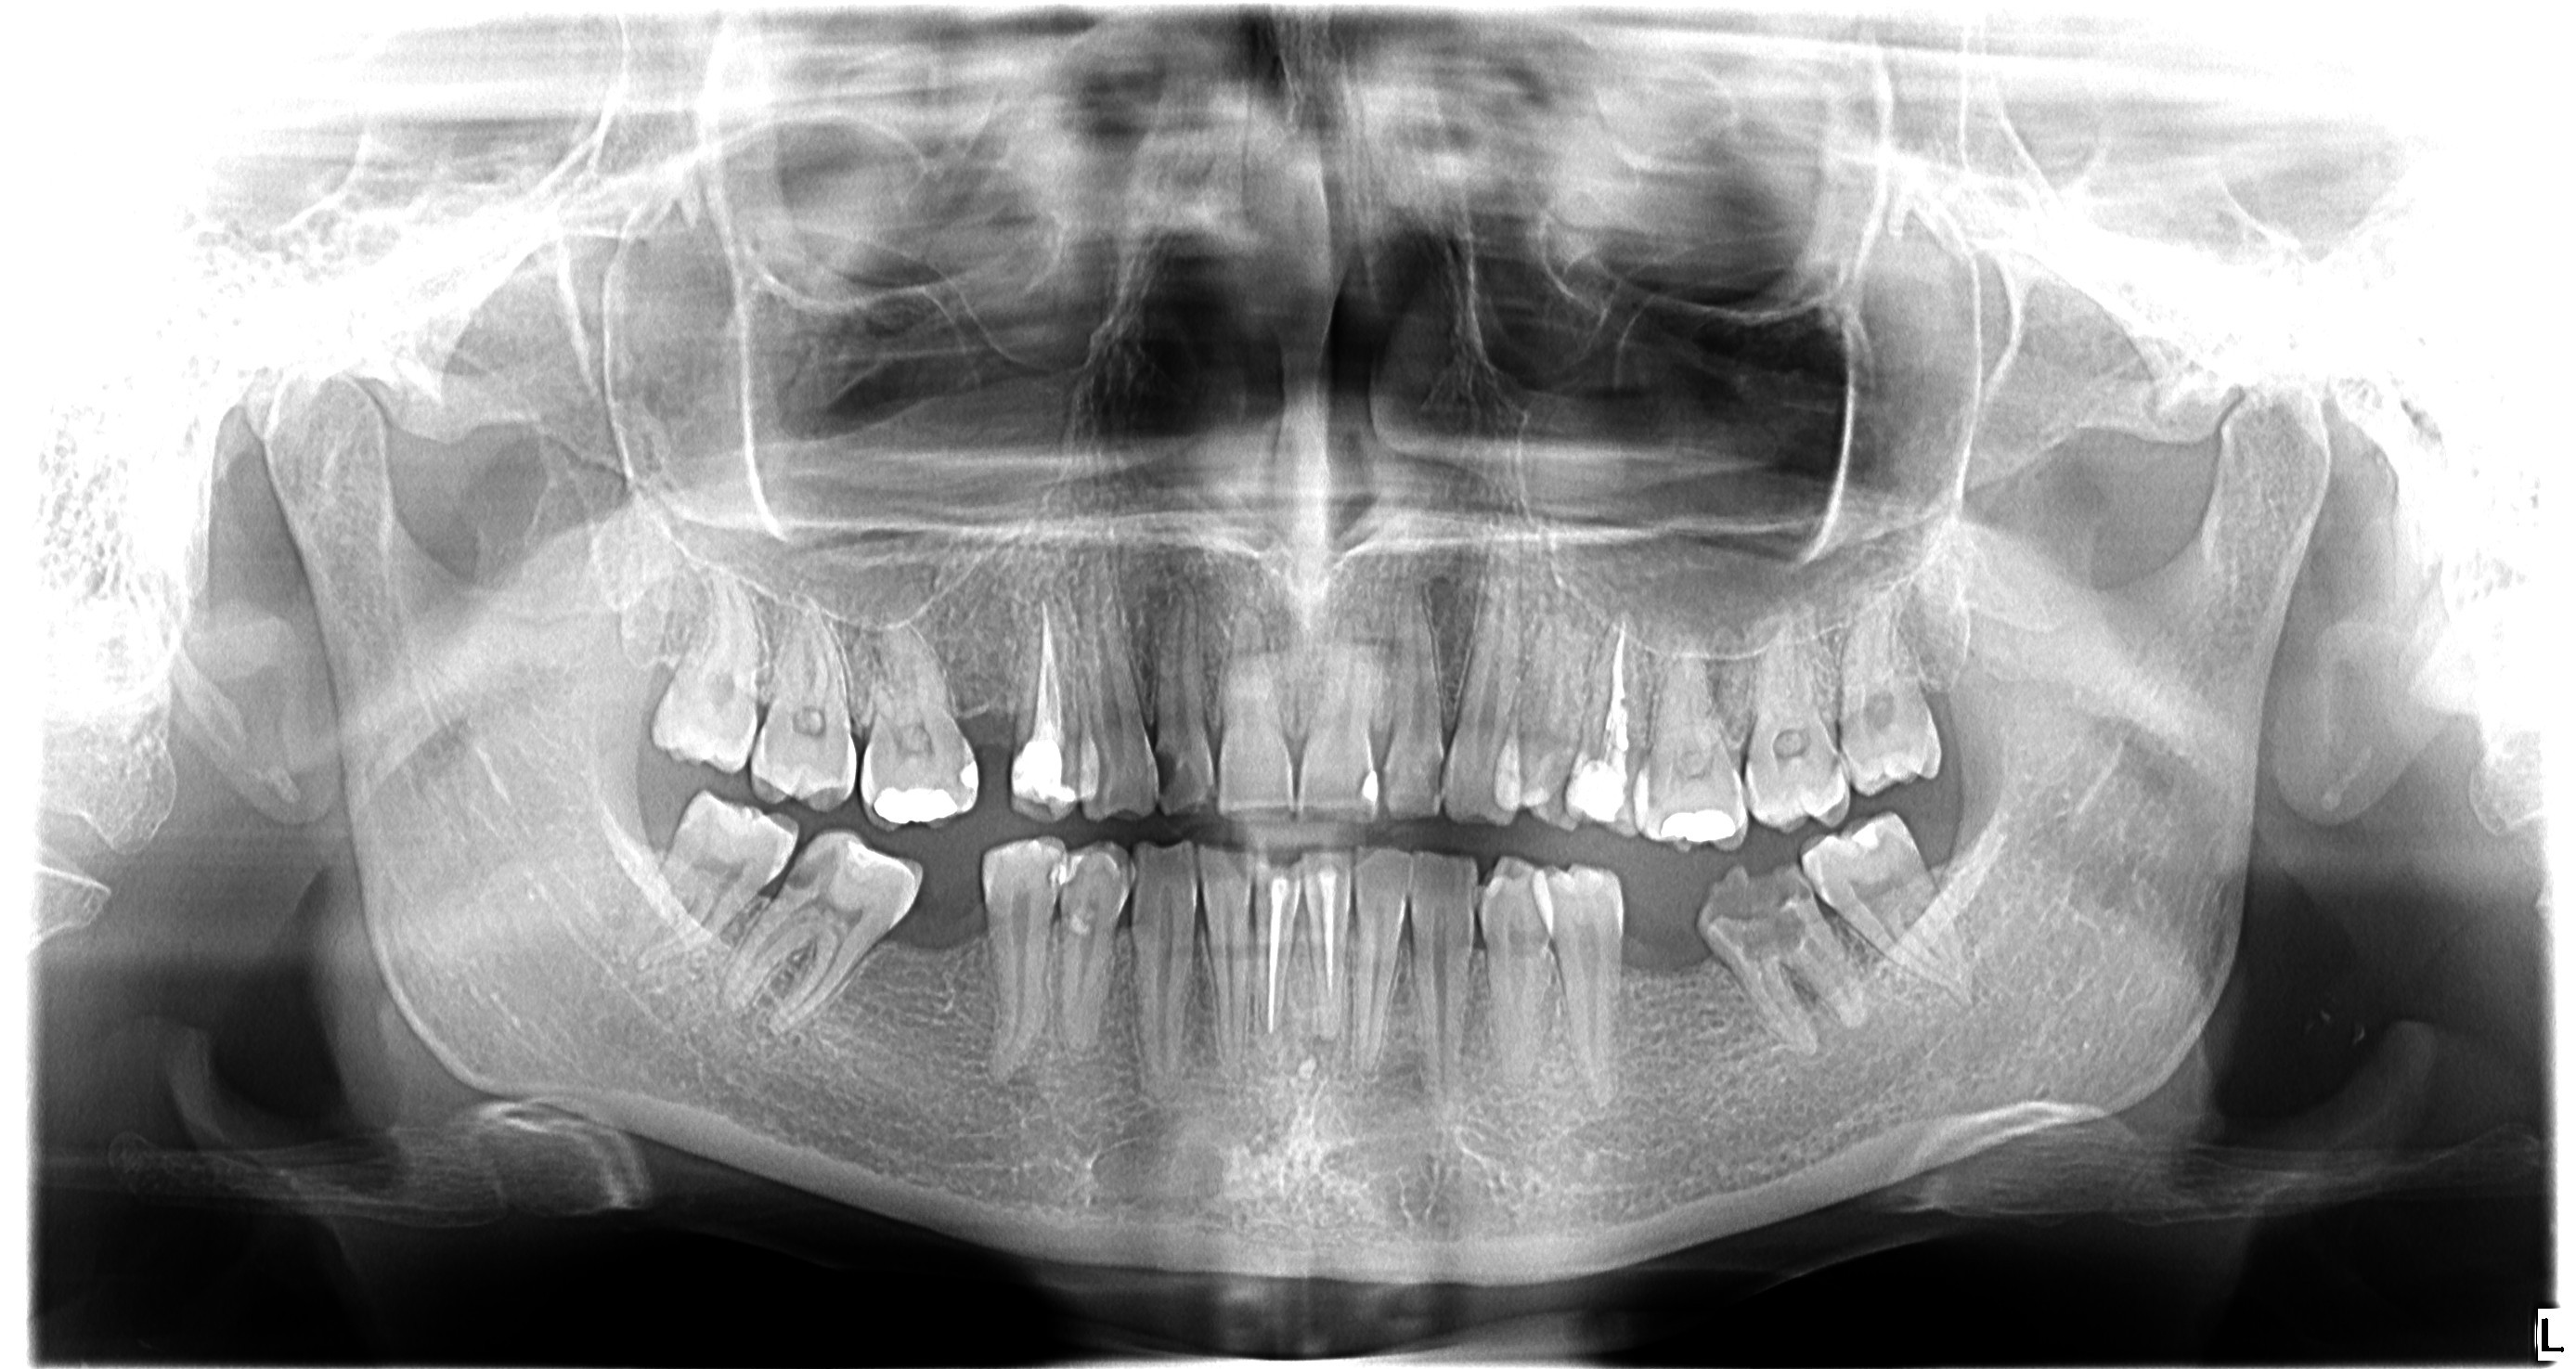API: (743, 1001, 799, 1063), (1837, 1008, 1896, 1056), (1302, 1025, 1353, 1071)
CAR: (1692, 851, 1825, 965), (772, 838, 854, 902), (1138, 736, 1189, 807), (1414, 741, 1455, 799), (1801, 868, 1838, 906)
END: (1586, 608, 1644, 753), (1307, 860, 1356, 1025), (1015, 591, 1072, 729), (1254, 868, 1295, 1042)
OBT: (859, 768, 983, 839), (1547, 746, 1634, 834), (1003, 729, 1085, 822), (1641, 800, 1743, 858), (1838, 812, 1893, 867), (946, 746, 992, 802), (1351, 754, 1392, 816), (1043, 848, 1099, 892)
